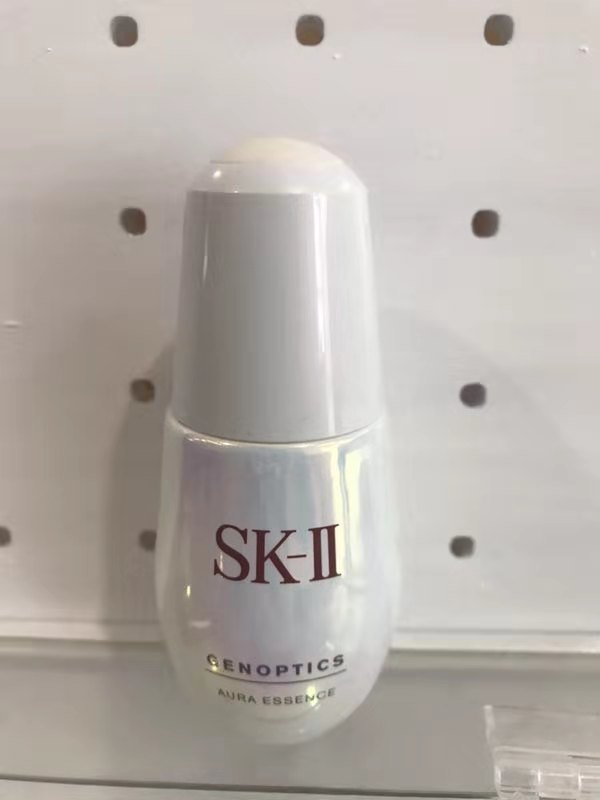sk2: (134, 126, 420, 757)
